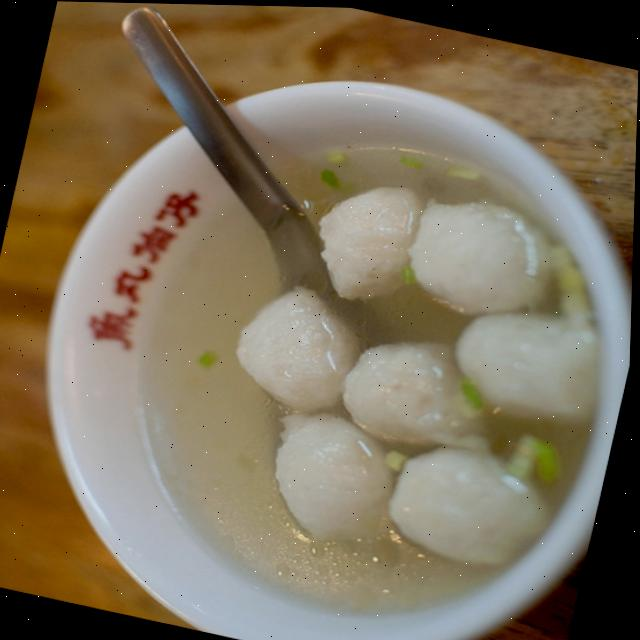熟制海鲜: (7, 38, 639, 640)
